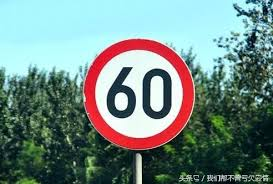Speed_limit_60km: (81, 38, 199, 151)
